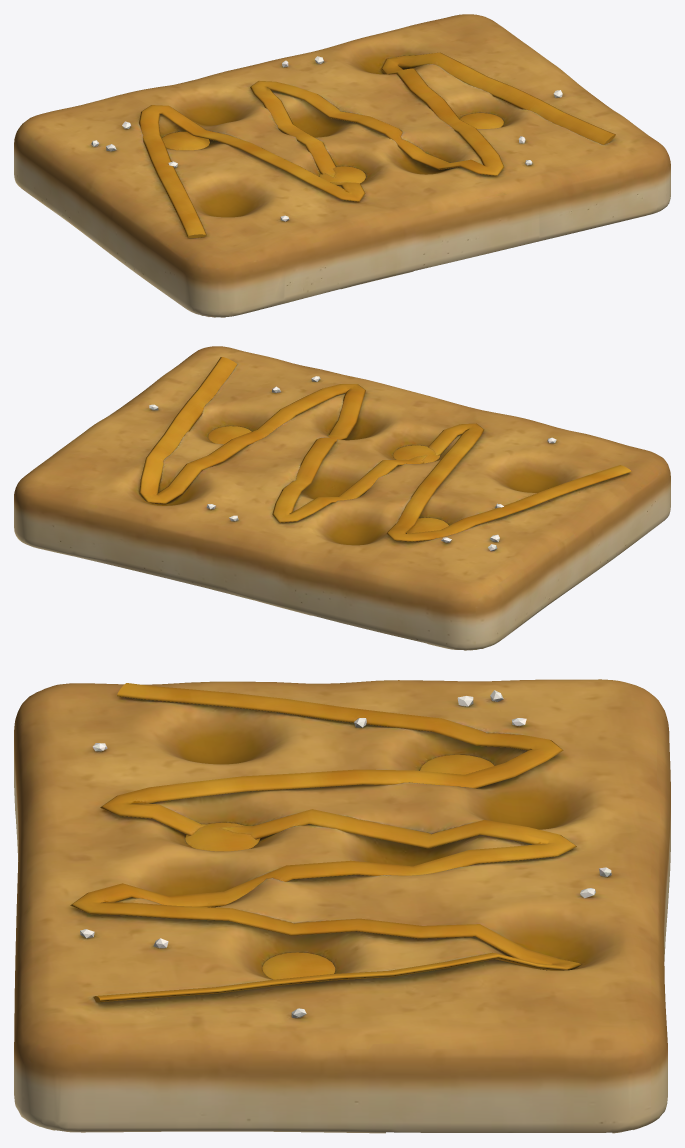
Rendered from focaccia--honey-jam.glb.
3 renders of one model, top to bottom at view 1: azimuth 30°, elevation 25°; view 2: azimuth 150°, elevation 25°; view 3: azimuth 270°, elevation 25°, orthographic. The views are drawn at different scales.
Visible parts, largest first — view 1: focaccia_honey-jam; view 2: focaccia_honey-jam; view 3: focaccia_honey-jam.
Boxes of the visible parts, <box> form: focaccia_honey-jam: <box>14,14,670,317</box>; focaccia_honey-jam: <box>14,346,670,650</box>; focaccia_honey-jam: <box>14,679,670,1133</box>.
Size of the model in its own units: 1.01 by 0.1365 by 0.7441.
1 material, 1 textured.
